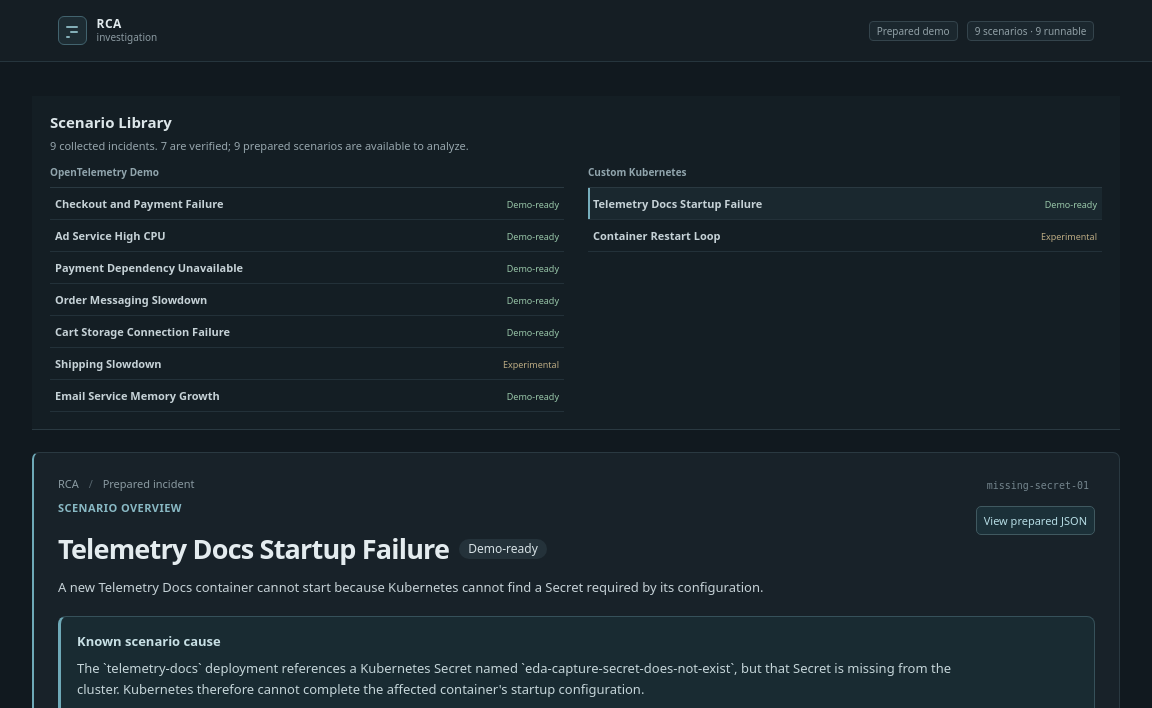
scenario overview separates the known cause from observed symptoms for application-failure-01
This screenshot has width=1152, height=708.
Expected: the heading "Scenario overview" is shown, x1=58 y1=500 x2=182 y2=515
Click the button "Checkout and Payment Failure Demo-ready" at (139, 203), box x1=50 y1=188 x2=564 y2=220
(page scrolled)
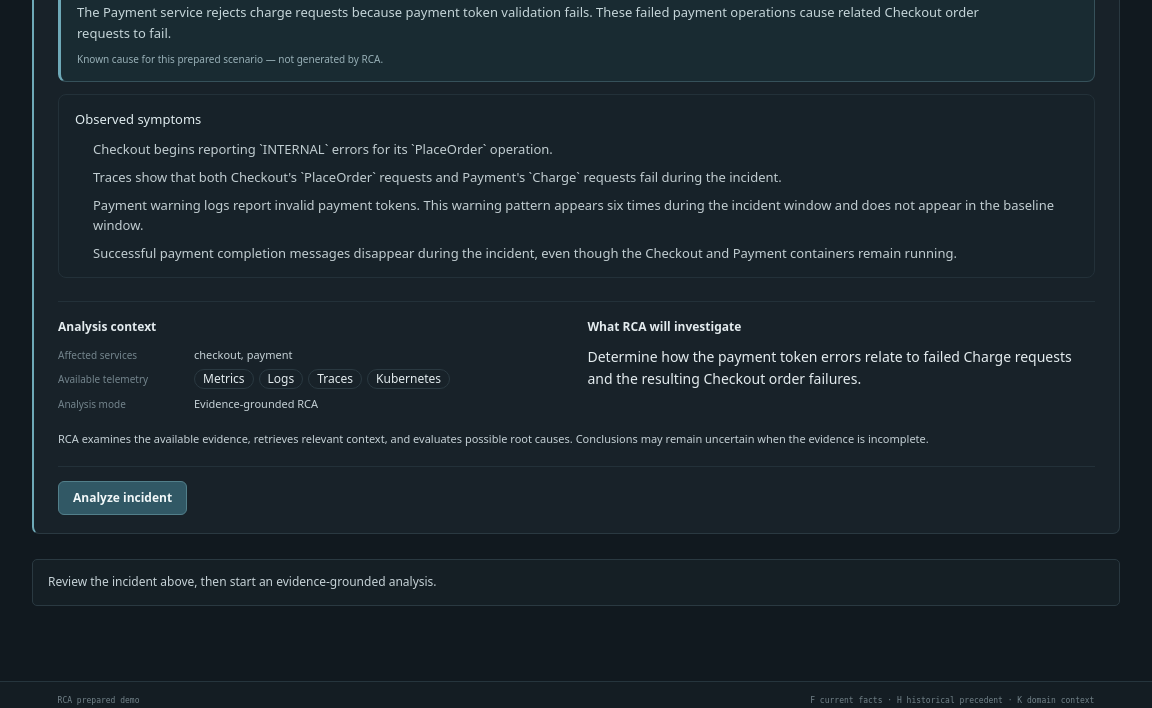
Now the text "payment token validation fails" is shown, box x1=77 y1=3 x2=979 y2=42
Now the list item "Payment warning logs report invalid payment tokens" is shown, box x1=93 y1=196 x2=1054 y2=234
Now the icon "Metrics" is shown, box x1=194 y1=369 x2=254 y2=389
